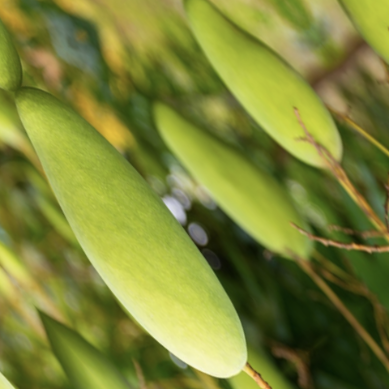mango: (0, 54, 298, 389), (124, 57, 340, 293), (157, 0, 371, 195)
